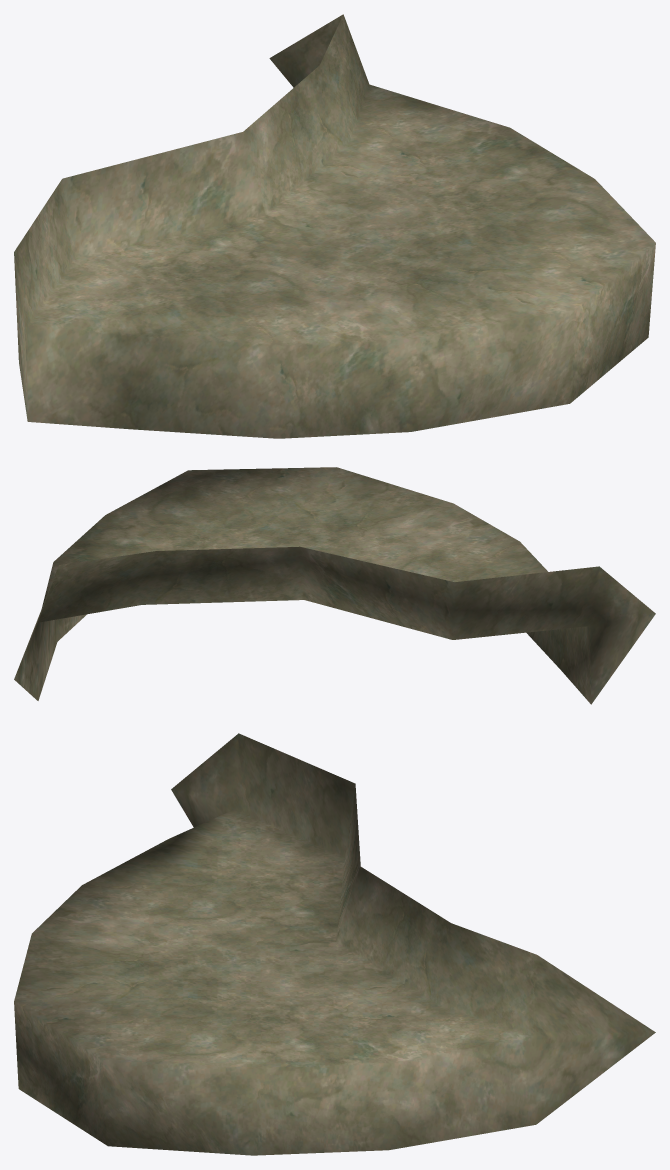
File: OVERHILL_A_01_OBJECT224.fbx
3 renders of one model, top to bottom at view 1: azimuth 30°, elevation 25°; view 2: azimuth 150°, elevation 25°; view 3: azimuth 270°, elevation 25°, orthographic. The views are drawn at different scales.
Parts seen in each view (by area): view 1: OVERHILL_A_01_OBJECT224; view 2: OVERHILL_A_01_OBJECT224; view 3: OVERHILL_A_01_OBJECT224.
Boxes of the visible parts, x1=… form: OVERHILL_A_01_OBJECT224: x1=14, y1=14, x2=655, y2=438; OVERHILL_A_01_OBJECT224: x1=14, y1=467, x2=655, y2=704; OVERHILL_A_01_OBJECT224: x1=14, y1=733, x2=655, y2=1155.
Bounding box in the file's own units: 42636 × 11250 × 41320.
1 material, 1 textured.
